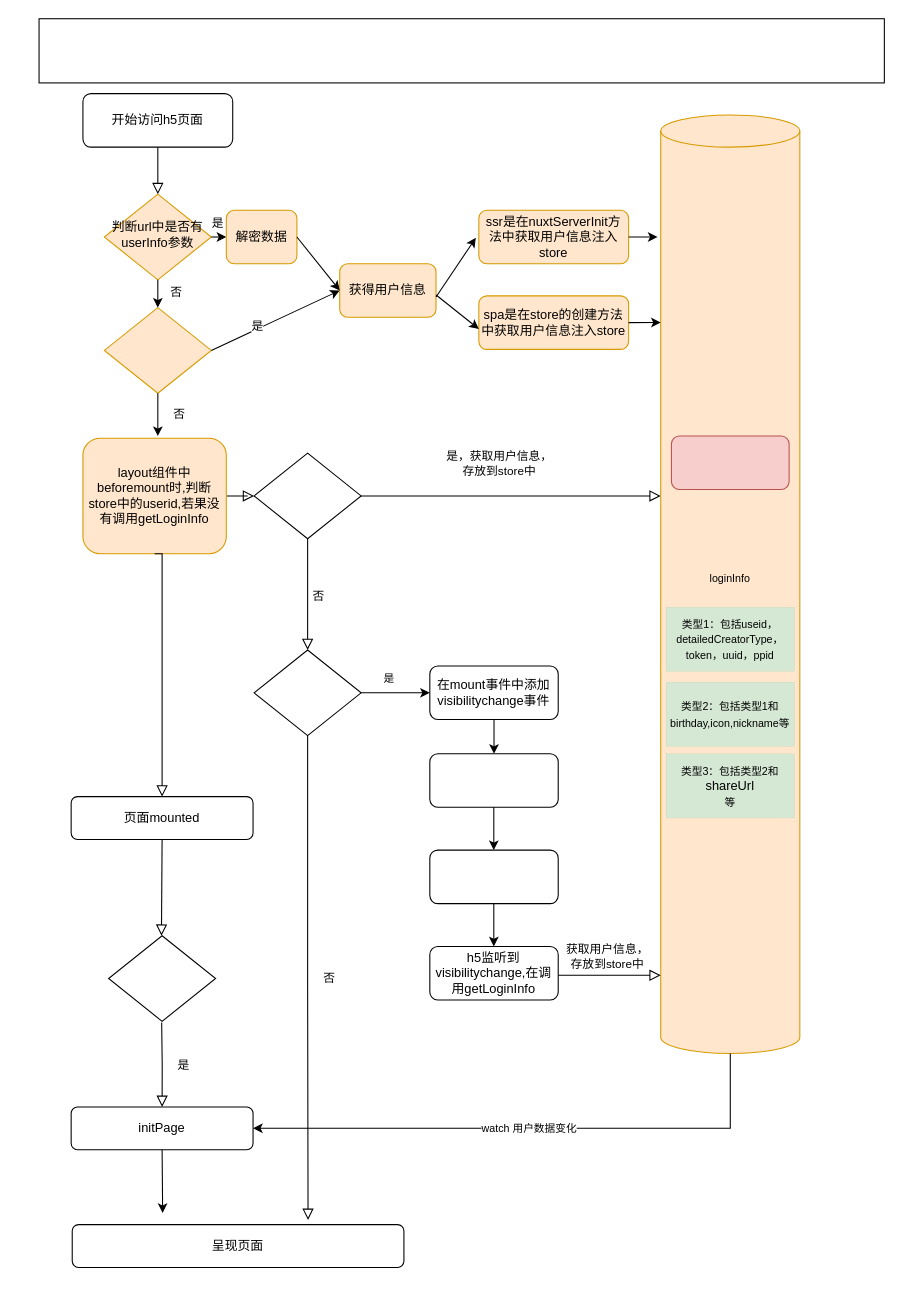
This 903x1311 diagram has some shape labels left out. Each missing label, with the centre of its shape:
"h5和客户端用户信息交互流程 2.0版，颜色深的部分是区别于1.0的部分" belongs at (x=461, y=50).
"store保存时，同时更新sessionStorage" belongs at (x=729, y=462).
"是否已有用户信息" belongs at (x=162, y=978).
"是否用到用户信息" belongs at (x=307, y=692).
"查看sessionStorage中是否有数据" belongs at (x=157, y=350).
"点击需要登录的地方" belongs at (x=493, y=780).
"用户是否登录" belongs at (x=307, y=495).
"调起客户端登录功能，表现为弹出一个登录页面" belongs at (x=493, y=876).
